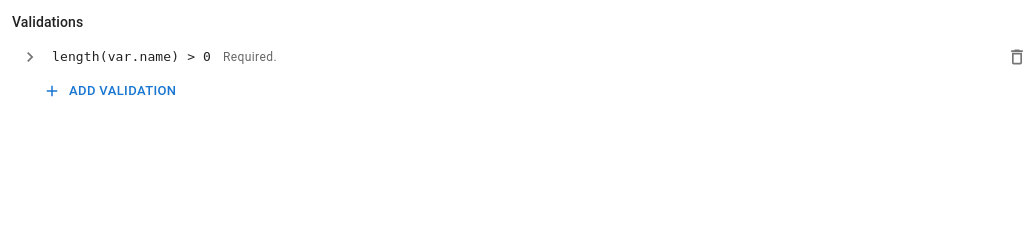
Scenario: ValidationsEditor › collapses existing validations and expands only the newest one
The width and height of the screenshot is (1036, 225).
Check: the text "length(var.name) > 0" is shown, box x1=52 y1=46 x2=211 y2=66
Check: the text "incomplete" is not shown
Click the button named "Validation 1".
click(30, 57)  # box x1=16 y1=43 x2=44 y2=71
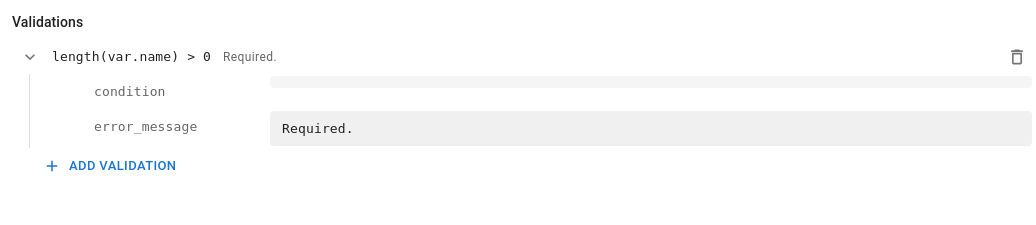
Check: the button named "Validation 1" is expanded, box x1=16 y1=43 x2=44 y2=71
Click the button "Add validation".
click(111, 166)  # box x1=40 y1=151 x2=181 y2=182
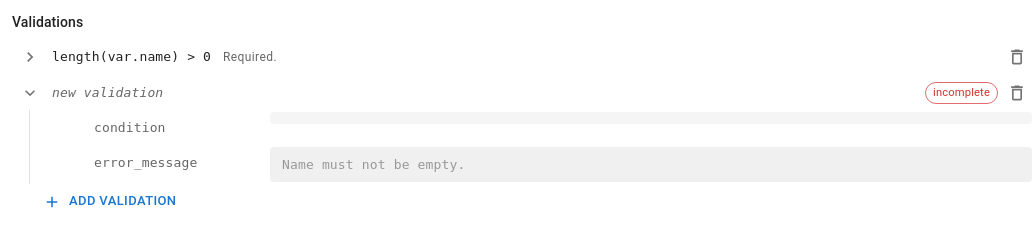
Check: the button named "Validation 1" is collapsed, box x1=16 y1=43 x2=44 y2=71
Check: the text "incomplete" is shown, box x1=933 y1=86 x2=990 y2=99
